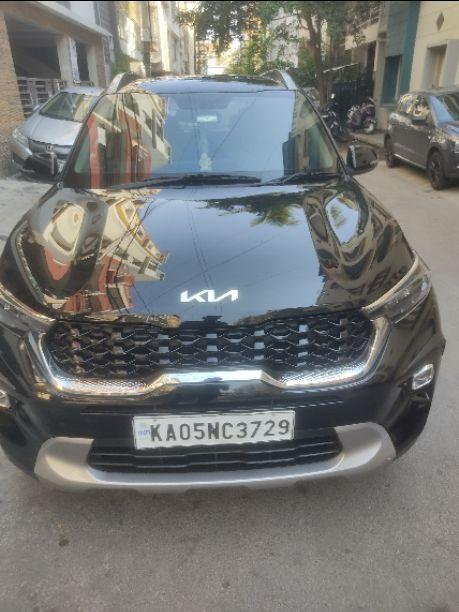license_plate: (129, 408, 296, 451)
